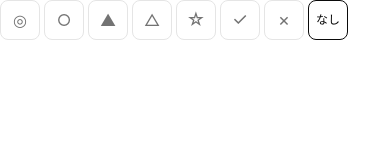
Test case: MarkPicker › ✓ は読み上げの名前に「候補」が入り、選ぶと onpick に ✓ を返す
# 札（span）の中に読み上げ用の「候補」があり、getByText の完全一致では取れないので、札を直に押す。
Step 1. Click the element showing "✓" → [240, 20], box [220,0,260,40]
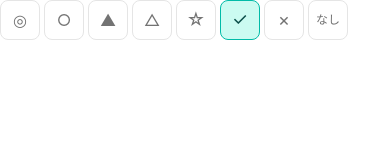
Expected: the radio button named "候補" is checked, [220,0,260,40]
